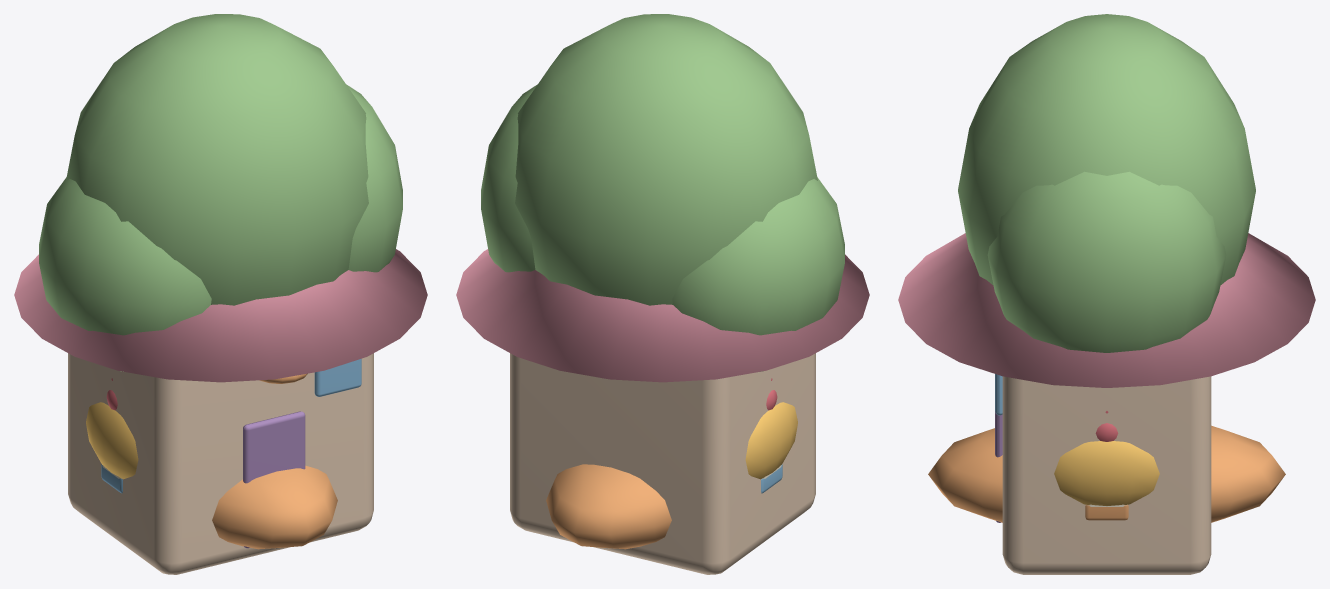
File: toybox.glb
3 views of the same model, side by side, from view 1: azimuth 30°, elevation 25°; view 2: azimuth 150°, elevation 25°; view 3: azimuth 270°, elevation 25° (orthographic).
Parts seen in each view (by area): view 1: tree, house, boat, duck; view 2: tree, house, boat, duck; view 3: tree, house, boat, duck, magnet.
Boxes of the visible parts, x1,y1,x2,y2 form: tree: (39, 14, 402, 371); house: (14, 249, 427, 574); boat: (212, 465, 337, 549); duck: (86, 373, 307, 479); tree: (481, 14, 844, 371); house: (456, 249, 869, 574); boat: (546, 464, 671, 549); duck: (745, 402, 797, 479); tree: (958, 14, 1255, 352); house: (898, 233, 1315, 574); boat: (928, 425, 1285, 522); duck: (1054, 441, 1159, 505); magnet: (1085, 411, 1128, 520).
Size of the model in its own units: 1.4 by 1.99 by 1.4.
